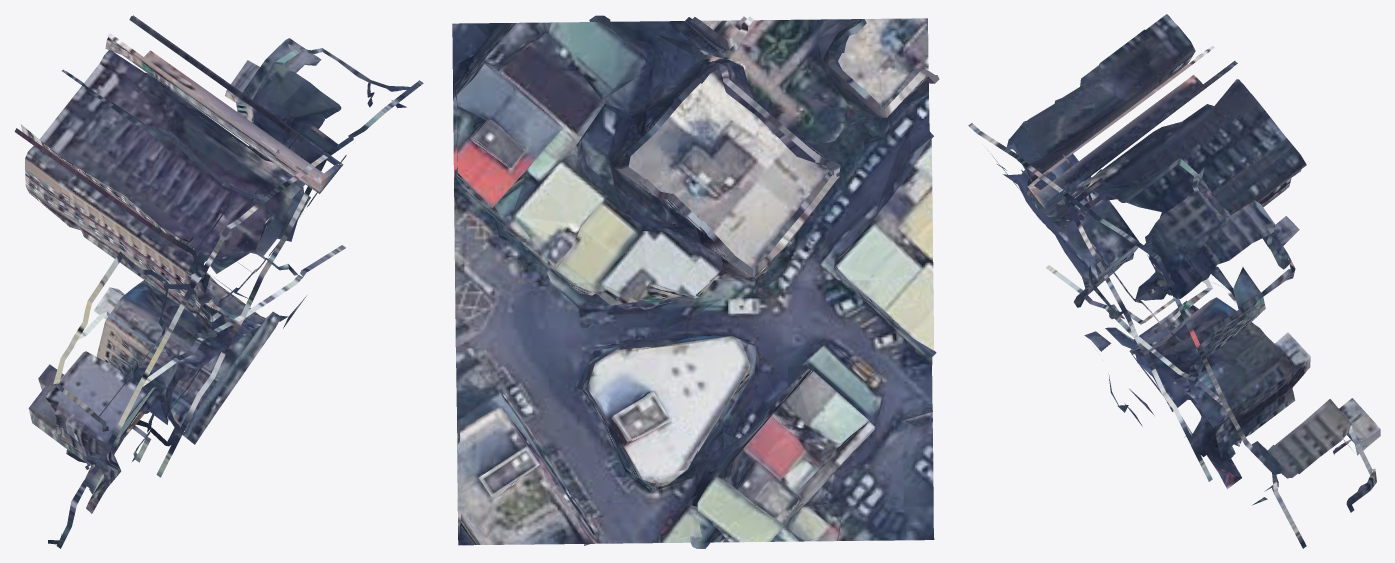
The picture shows the model from 3 angles, left to right: view 1: azimuth 30°, elevation 25°; view 2: azimuth 150°, elevation 25°; view 3: azimuth 270°, elevation 25°; orthographic projection. The views are drawn at different scales.
Bounding box in the file's own units: 81.99 × 87.42 × 78.4.
Materials: 2 (2 with a texture image).
